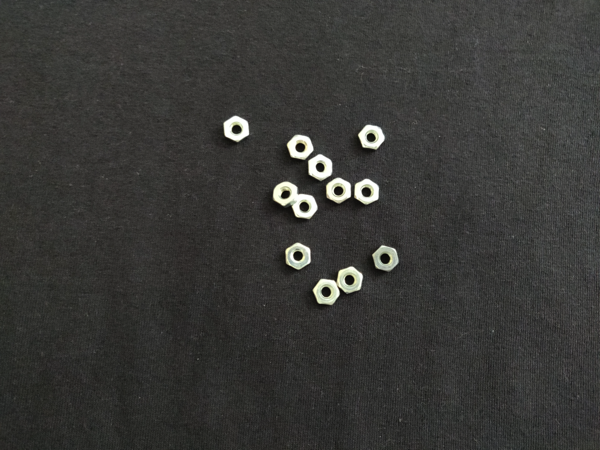nut: (222, 115, 251, 144), (336, 266, 364, 296), (312, 277, 340, 307), (357, 124, 385, 153), (271, 181, 300, 209), (285, 242, 312, 272), (291, 192, 319, 220), (372, 245, 400, 273), (286, 134, 315, 161), (307, 154, 334, 182), (353, 179, 381, 206), (325, 177, 352, 204)
